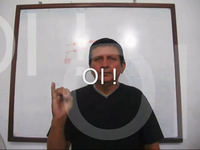oi: (50, 80, 77, 122)
